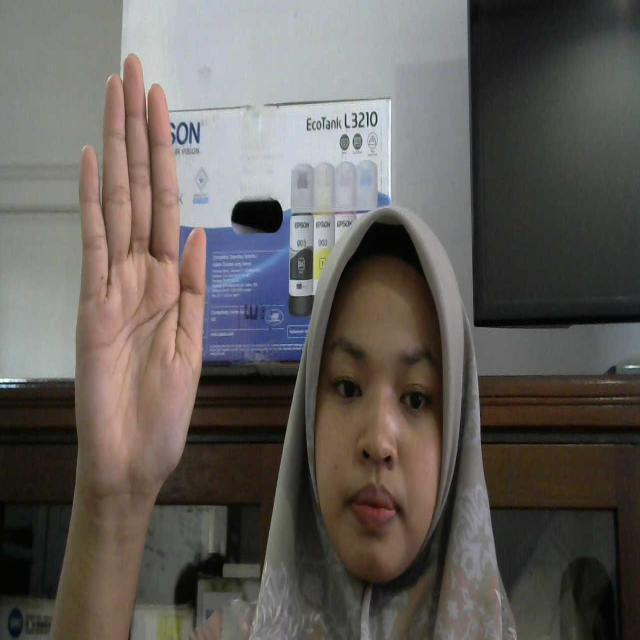hand: (68, 45, 208, 529)
